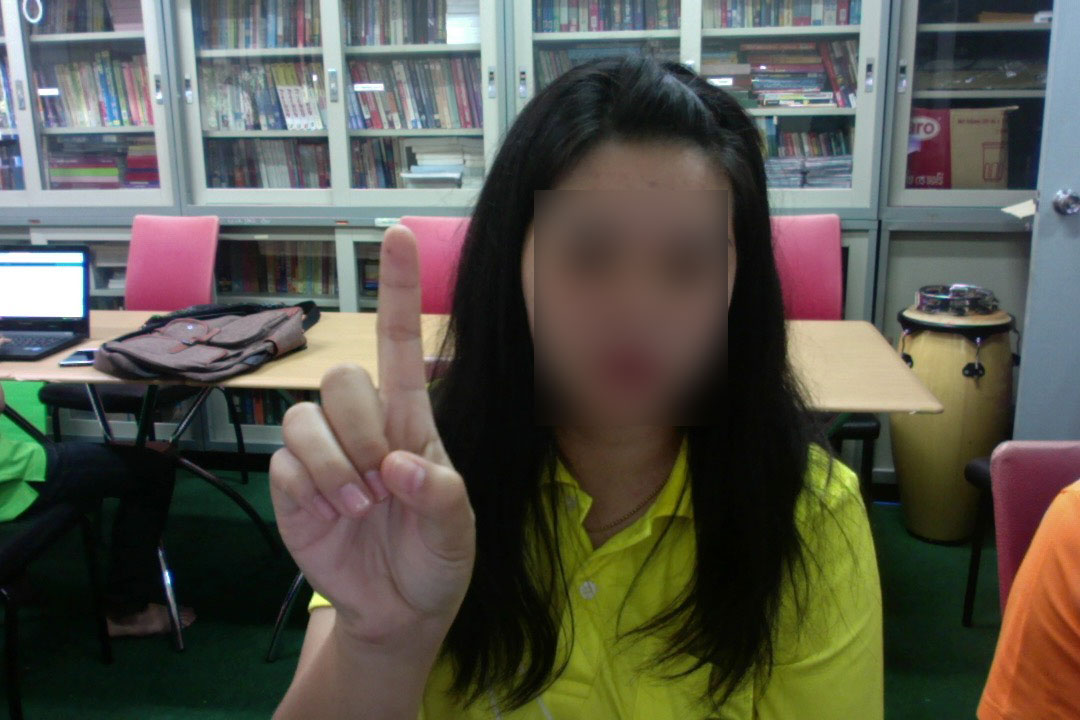dor: (268, 211, 481, 663)
